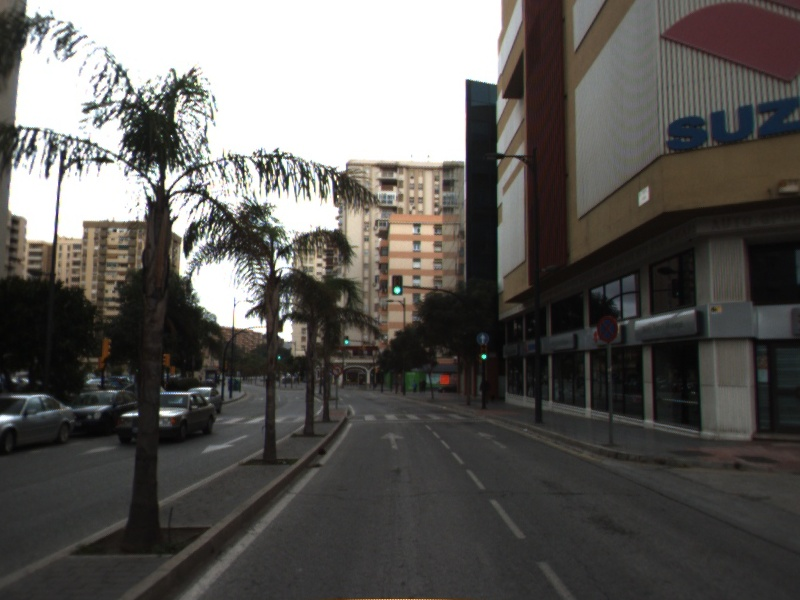STRAIGHT: (475, 429, 510, 451), (378, 430, 407, 452)
